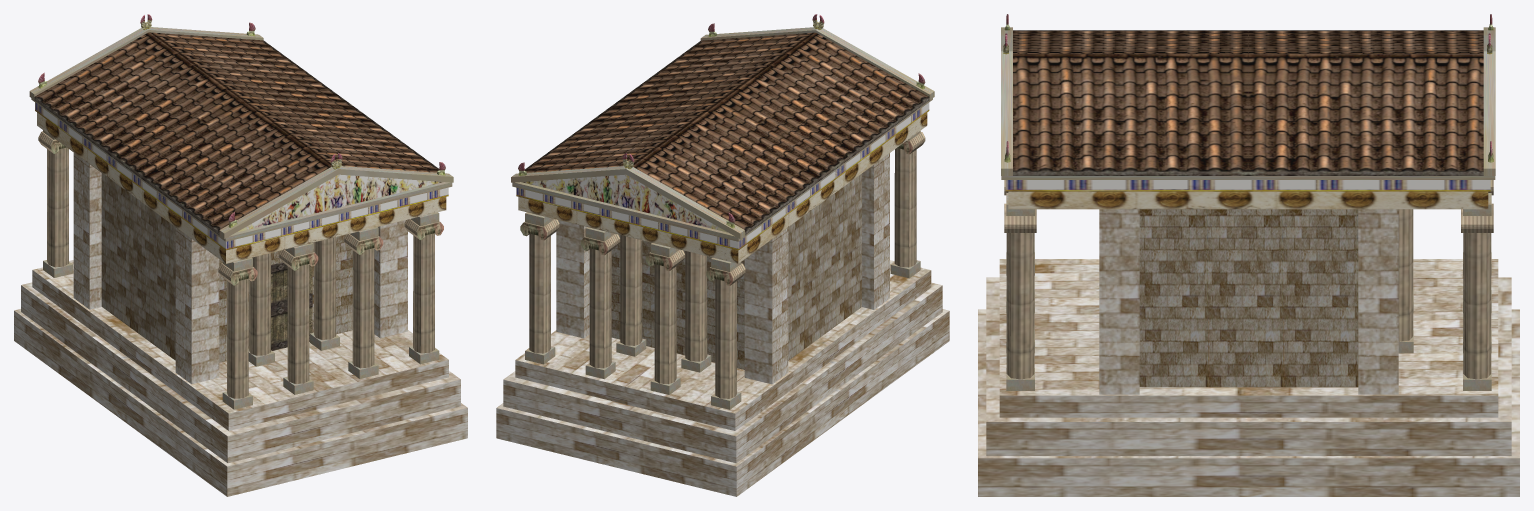
Rendered from temple.dae.
The picture shows the model from 3 angles, left to right: view 1: azimuth 30°, elevation 25°; view 2: azimuth 150°, elevation 25°; view 3: azimuth 270°, elevation 25°; orthographic projection. The views are drawn at different scales.
Parts seen in each view (by area): view 1: temple; view 2: temple; view 3: temple.
Part boxes in pixels (left/top/right/bottom): temple: left=14, top=14, right=467, bottom=496; temple: left=496, top=14, right=949, bottom=496; temple: left=978, top=14, right=1519, bottom=496.
Bounding box in the file's own units: 13.71 × 21.04 × 16.65.
